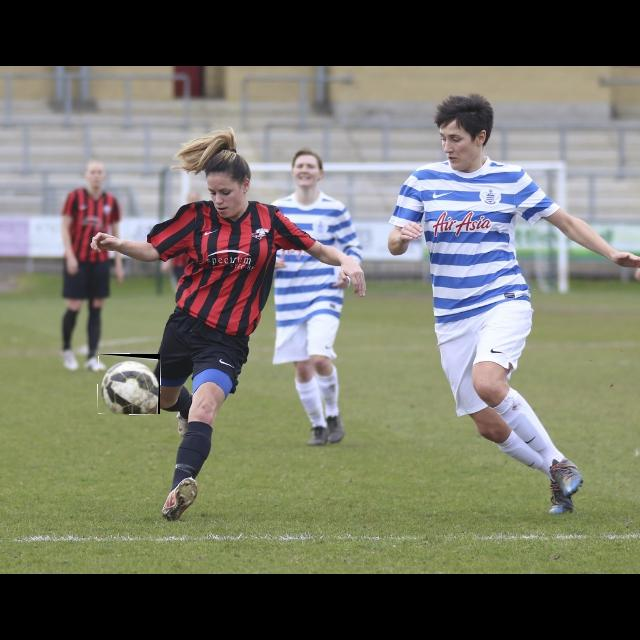Football: (98, 354, 160, 414)
